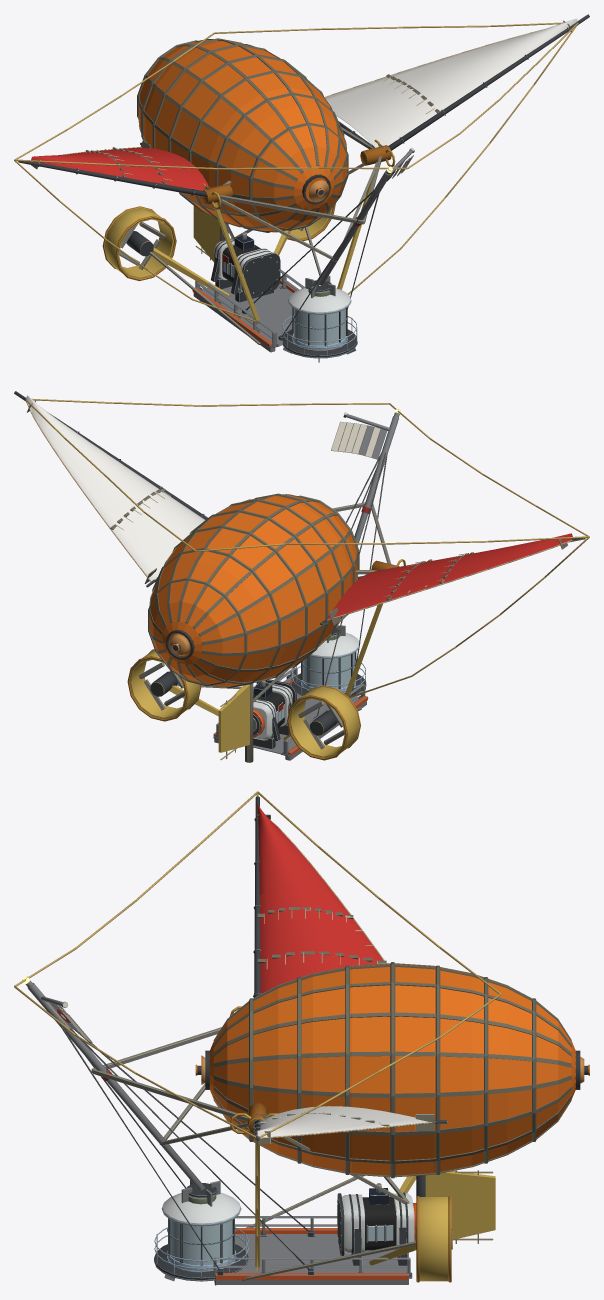
Rendered from sky_skiff.fbx.
3 views of the same model, one above another, from view 1: azimuth 30°, elevation 25°; view 2: azimuth 150°, elevation 25°; view 3: azimuth 270°, elevation 25° (orthographic). The views are drawn at different scales.
Visible parts, largest first — view 1: Mesh_SkyCity_Bag2_GasEnvelope_Banded.002, Mesh_SkyCity_SailStbd_LateenSail_Main.001, Mesh_SkyCity_Outriggers.001, Mesh_SkyCity_SternGear.001, Mesh_SkyCity_SailPort_LateenSail_PatchedPort.001, Mesh_SkyCity_Beacon_SensorCupola_Lantern.004, Mesh_SkyCity_Under02_Catwalk_Straight.001, Mesh_SkyCity_Home17_HabCapsule_Short.001, Mesh_SkyCity_Flag01_MastRig_Flag.003; view 2: Mesh_SkyCity_Bag2_GasEnvelope_Banded.002, Mesh_SkyCity_SailStbd_LateenSail_Main.001, Mesh_SkyCity_SternGear.001, Mesh_SkyCity_SailPort_LateenSail_PatchedPort.001, Mesh_SkyCity_Outriggers.001, Mesh_SkyCity_Flag01_MastRig_Flag.003, Mesh_SkyCity_Beacon_SensorCupola_Lantern.004, Mesh_SkyCity_Home17_HabCapsule_Short.001, Mesh_SkyCity_Under02_Catwalk_Straight.001; view 3: Mesh_SkyCity_Bag2_GasEnvelope_Banded.002, Mesh_SkyCity_SailPort_LateenSail_PatchedPort.001, Mesh_SkyCity_SternGear.001, Mesh_SkyCity_Under02_Catwalk_Straight.001, Mesh_SkyCity_Outriggers.001, Mesh_SkyCity_Beacon_SensorCupola_Lantern.004, Mesh_SkyCity_Flag01_MastRig_Flag.003, Mesh_SkyCity_Home17_HabCapsule_Short.001, Mesh_SkyCity_SailStbd_LateenSail_Main.001.
Part boxes in pixels (x1,y1,x2,y2): Mesh_SkyCity_Bag2_GasEnvelope_Banded.002: [137, 38, 348, 232]; Mesh_SkyCity_SailStbd_LateenSail_Main.001: [324, 14, 589, 153]; Mesh_SkyCity_Outriggers.001: [14, 22, 578, 323]; Mesh_SkyCity_SternGear.001: [102, 203, 335, 344]; Mesh_SkyCity_SailPort_LateenSail_PatchedPort.001: [18, 140, 213, 197]; Mesh_SkyCity_Beacon_SensorCupola_Lantern.004: [282, 280, 357, 362]; Mesh_SkyCity_Under02_Catwalk_Straight.001: [192, 269, 304, 352]; Mesh_SkyCity_Home17_HabCapsule_Short.001: [211, 232, 280, 302]; Mesh_SkyCity_Flag01_MastRig_Flag.003: [242, 148, 414, 340]; Mesh_SkyCity_Bag2_GasEnvelope_Banded.002: [148, 493, 359, 688]; Mesh_SkyCity_SailStbd_LateenSail_Main.001: [14, 391, 207, 587]; Mesh_SkyCity_SternGear.001: [127, 649, 361, 762]; Mesh_SkyCity_SailPort_LateenSail_PatchedPort.001: [320, 533, 585, 625]; Mesh_SkyCity_Outriggers.001: [25, 398, 589, 702]; Mesh_SkyCity_Flag01_MastRig_Flag.003: [286, 409, 400, 718]; Mesh_SkyCity_Beacon_SensorCupola_Lantern.004: [291, 627, 366, 696]; Mesh_SkyCity_Home17_HabCapsule_Short.001: [253, 679, 296, 749]; Mesh_SkyCity_Under02_Catwalk_Straight.001: [213, 667, 368, 760]; Mesh_SkyCity_Bag2_GasEnvelope_Banded.002: [195, 962, 589, 1178]; Mesh_SkyCity_SailPort_LateenSail_PatchedPort.001: [253, 796, 386, 997]; Mesh_SkyCity_SternGear.001: [241, 1170, 495, 1282]; Mesh_SkyCity_Under02_Catwalk_Straight.001: [212, 1216, 412, 1284]; Mesh_SkyCity_Outriggers.001: [14, 791, 501, 1271]; Mesh_SkyCity_Beacon_SensorCupola_Lantern.004: [154, 1183, 248, 1285]; Mesh_SkyCity_Flag01_MastRig_Flag.003: [22, 976, 313, 1275]; Mesh_SkyCity_Home17_HabCapsule_Short.001: [337, 1183, 416, 1265]; Mesh_SkyCity_SailStbd_LateenSail_Main.001: [253, 1106, 447, 1143].
Size of the model in its own units: 3094 by 1282 by 2133.
